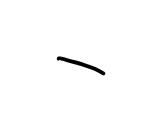minus: (57, 56, 105, 75)
